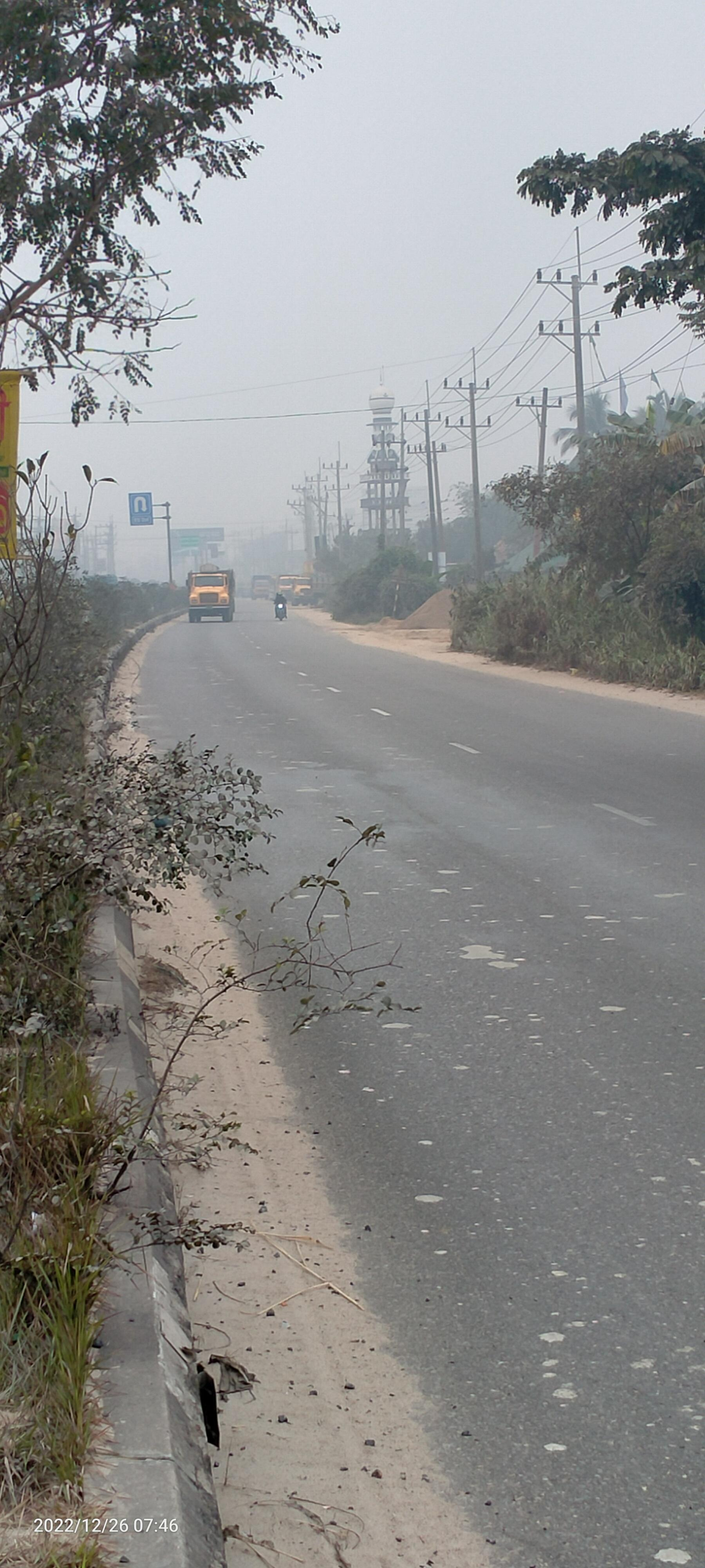Bike: (269, 590, 296, 624)
Truck: (180, 558, 244, 631)
